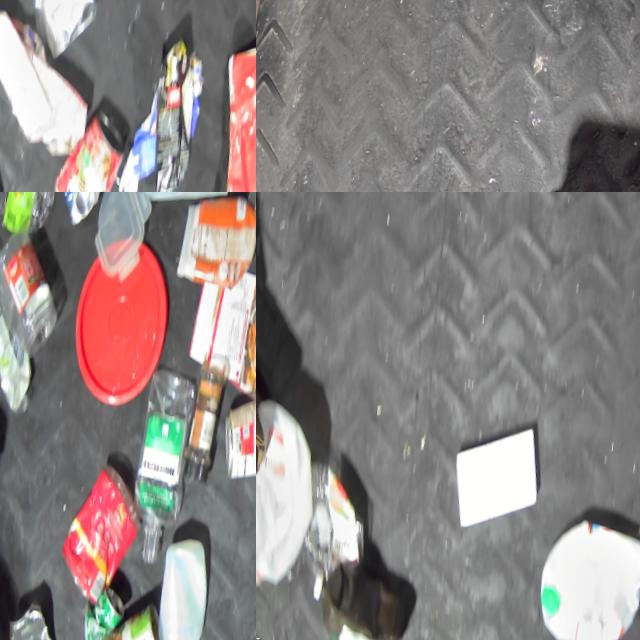can: (37, 111, 127, 192), (14, 0, 102, 73), (210, 393, 256, 490), (87, 596, 164, 640), (72, 584, 122, 640), (0, 598, 58, 640), (47, 192, 106, 233)
milk_jug: (522, 514, 640, 640), (256, 393, 321, 594), (136, 535, 213, 640), (117, 192, 255, 218)
non_white_jug: (202, 38, 256, 192)
plastic_bottle: (117, 365, 197, 572), (0, 192, 57, 243)
